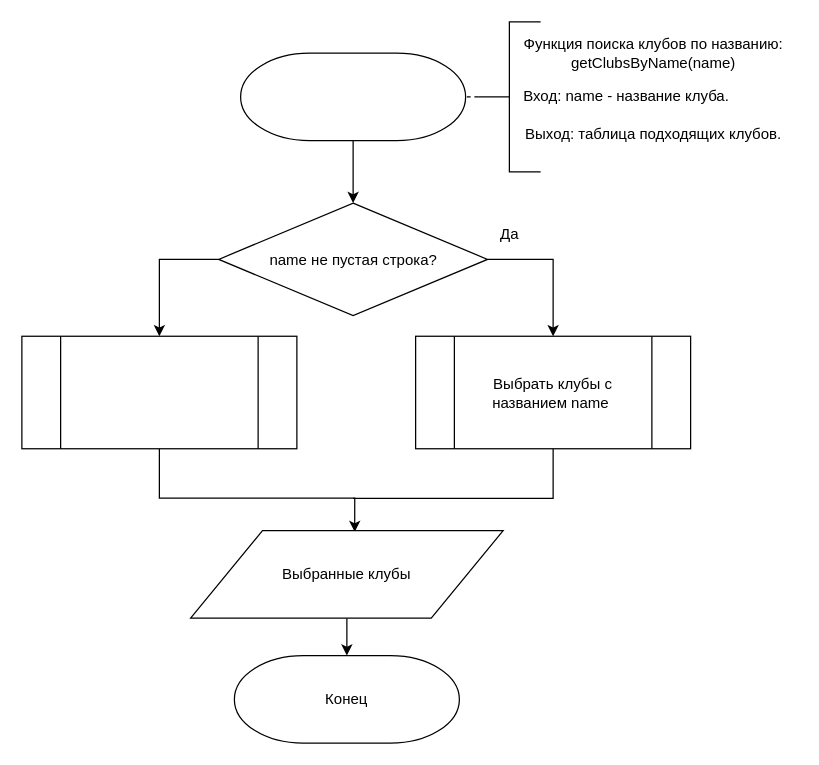
Image size: 819x765. Some labels were removed from this diagram. Here are the shapes that lost their labels. From the top down, the centre of each, then its label:
At (x=352, y=96): "Начало".
At (x=159, y=392): "Выбрать все клубы".
